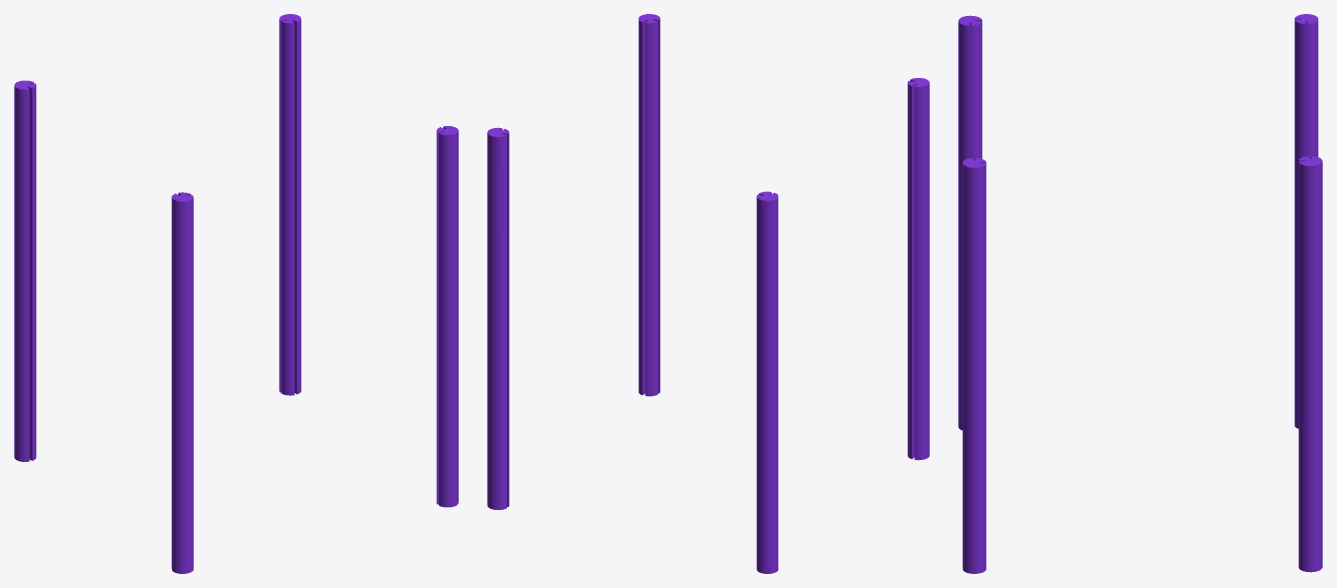
The model's file is montant_wood.glb.
The picture shows the model from 3 angles, left to right: view 1: azimuth 30°, elevation 25°; view 2: azimuth 150°, elevation 25°; view 3: azimuth 270°, elevation 25°; orthographic projection. The views are drawn at different scales.
Visible parts, largest first — view 1: Wood.011, Wood.009, Wood.012, Wood.010; view 2: Wood.012, Wood.010, Wood.011, Wood.009; view 3: Wood.010, Wood.011, Wood.012, Wood.009.
Part boxes in pixels (x1,y1,x2,y2): Wood.011: [279, 14, 301, 395]; Wood.009: [171, 192, 193, 573]; Wood.012: [14, 80, 36, 461]; Wood.010: [436, 126, 458, 507]; Wood.012: [756, 191, 778, 573]; Wood.010: [638, 14, 660, 396]; Wood.011: [487, 127, 509, 509]; Wood.009: [907, 78, 929, 460]; Wood.010: [962, 158, 986, 573]; Wood.011: [1298, 156, 1322, 572]; Wood.012: [1294, 14, 1318, 428]; Wood.009: [958, 15, 982, 430].
Size of the model in its own units: 61.12 by 75.22 by 61.12.
